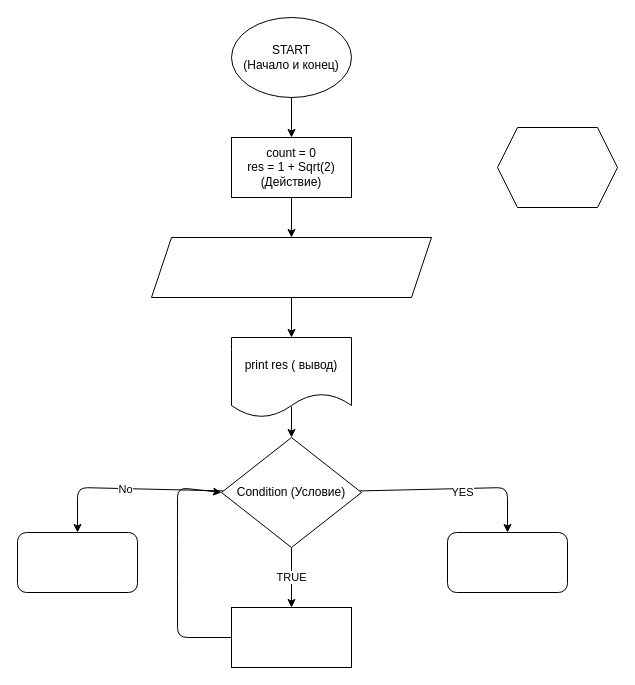
Image size: 635x685. Some labels were removed from this diagram. The centre of each missing label's shape, as x and y in pixels:
count ( Ввод данных ): pixel 291 267
цикл с счетчиком: pixel 557 167
